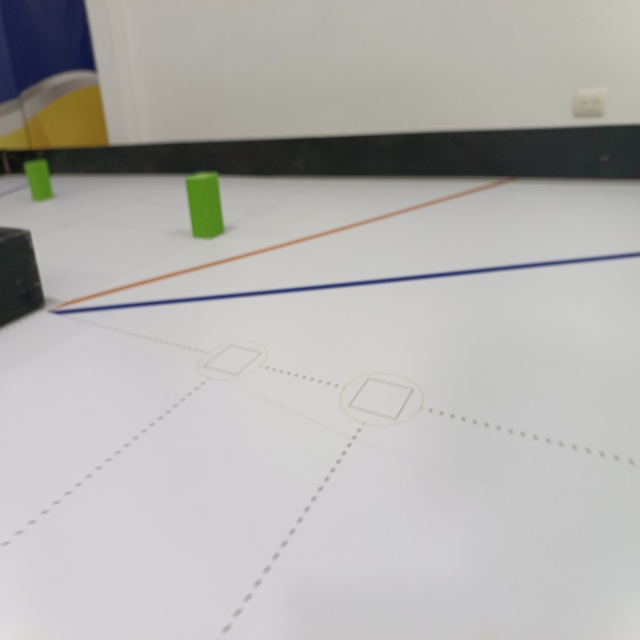blue line: (52, 249, 639, 317)
green rectangular prism: (181, 169, 228, 241), (20, 160, 56, 201)
orange line: (51, 179, 510, 305)
